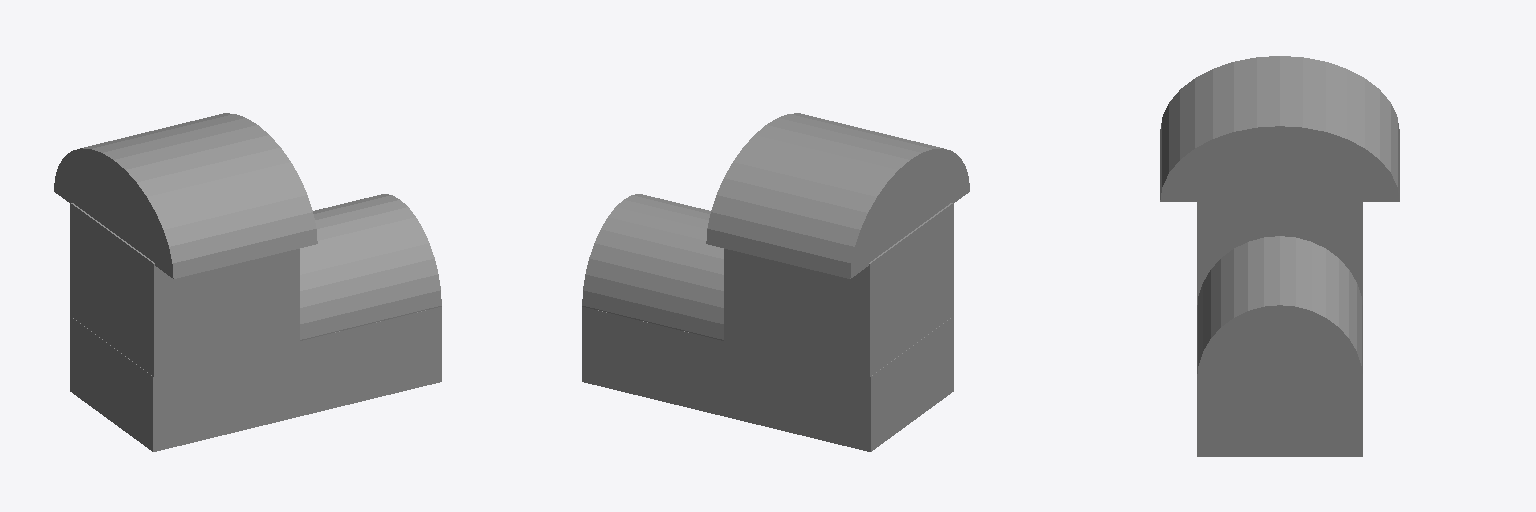
Rendered from toyTrain.obj.
3 views of the same model, side by side, from view 1: azimuth 30°, elevation 25°; view 2: azimuth 150°, elevation 25°; view 3: azimuth 270°, elevation 25° (orthographic).
Visible parts, largest first — view 1: Cube; view 2: Cube; view 3: Cube.
Part boxes in pixels (x1,y1,x2,y2): Cube: (54, 113, 441, 451); Cube: (582, 113, 969, 451); Cube: (1160, 56, 1399, 456).
Bounding box in the file's own units: 4 × 3.47 × 2.88.